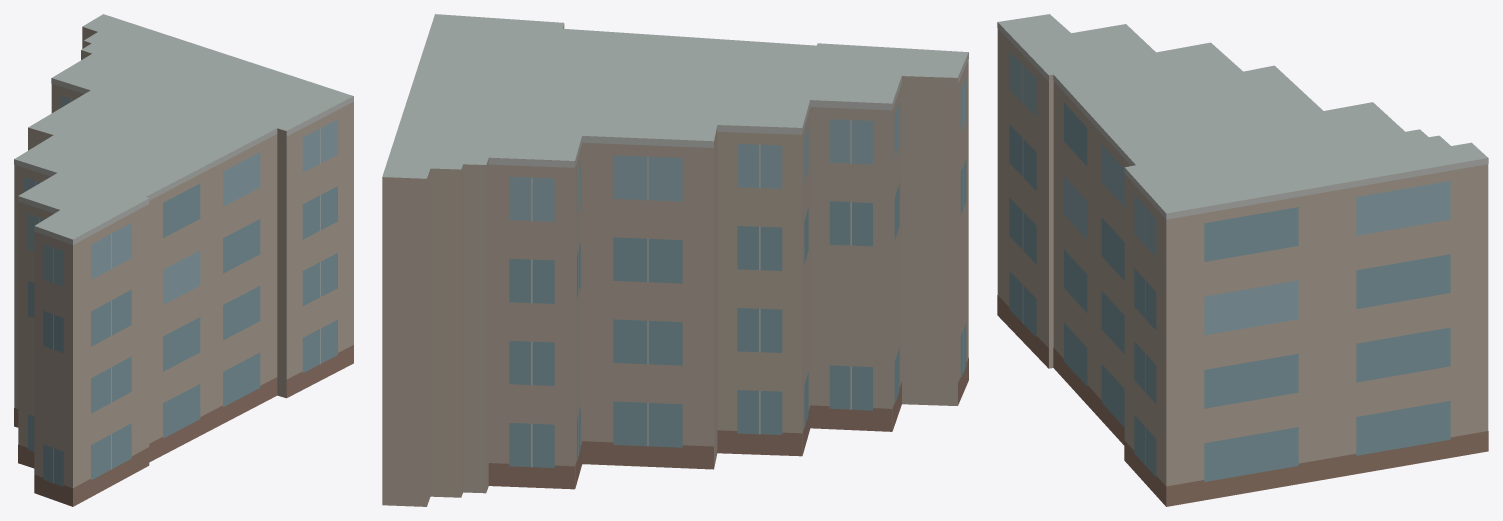
Rendered from survey-upis-32725674.glb.
3 renders of one model, left to right at view 1: azimuth 30°, elevation 25°; view 2: azimuth 150°, elevation 25°; view 3: azimuth 270°, elevation 25°, orthographic. The views are drawn at different scales.
Visible parts, largest first — view 1: survey-upis-32725674.tmp; view 2: survey-upis-32725674.tmp; view 3: survey-upis-32725674.tmp.
Boxes of the visible parts, x1=… form: survey-upis-32725674.tmp: x1=14, y1=14, x2=353, y2=506; survey-upis-32725674.tmp: x1=382, y1=14, x2=968, y2=506; survey-upis-32725674.tmp: x1=997, y1=14, x2=1488, y2=506.
Size of the model in its own units: 17.08 by 11.7 by 17.75.
